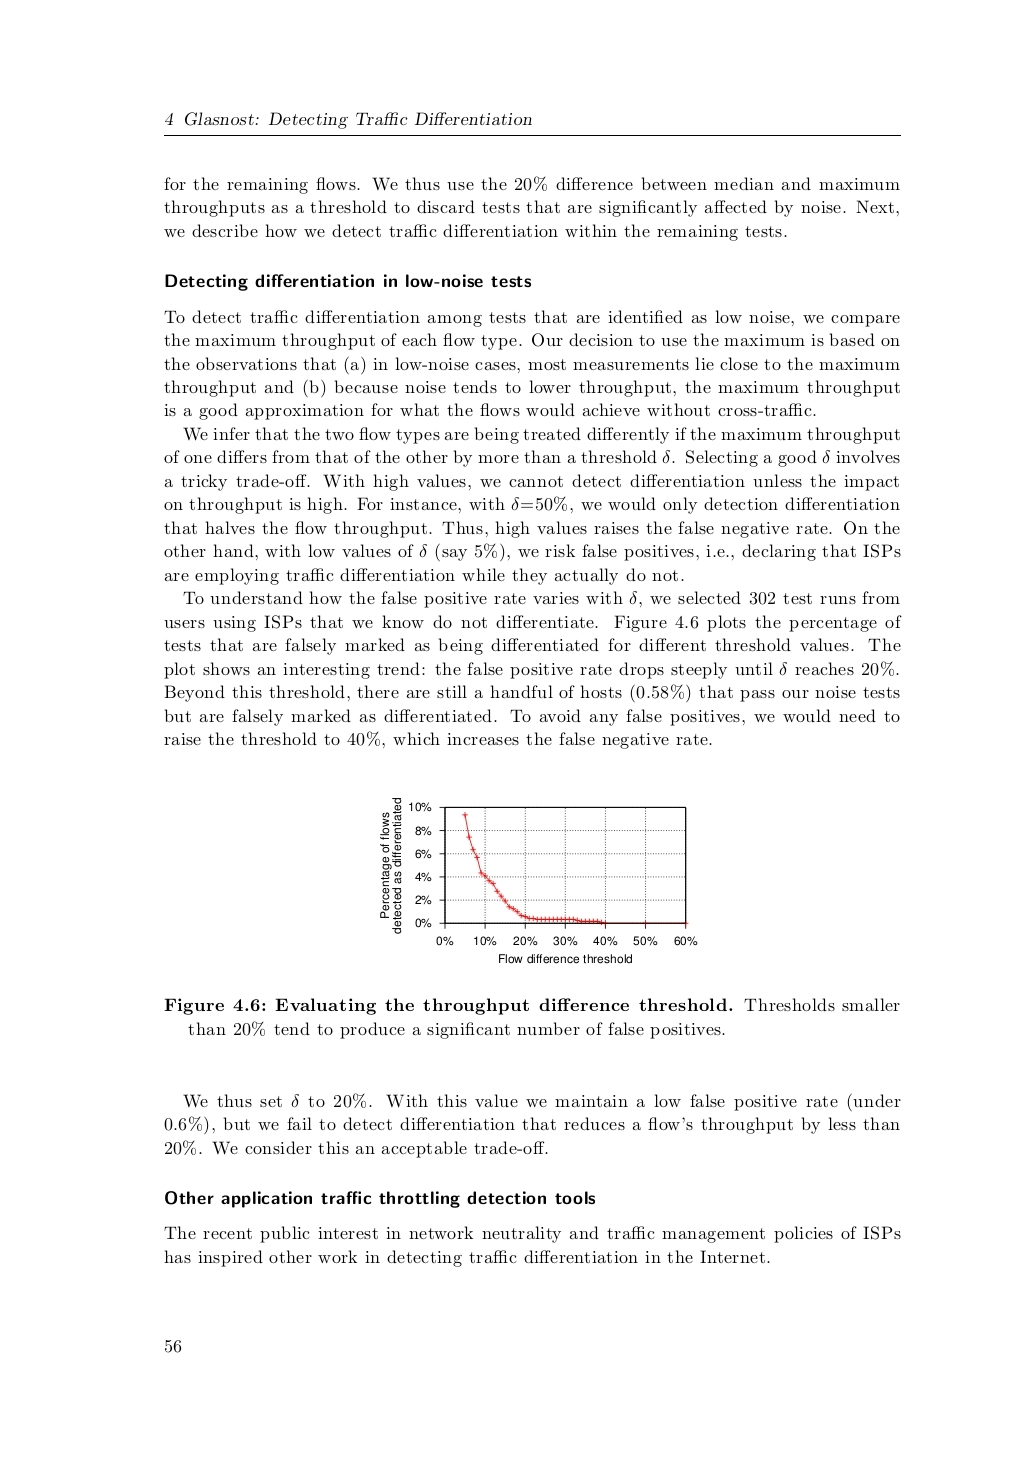figure: (380, 798, 697, 963)
